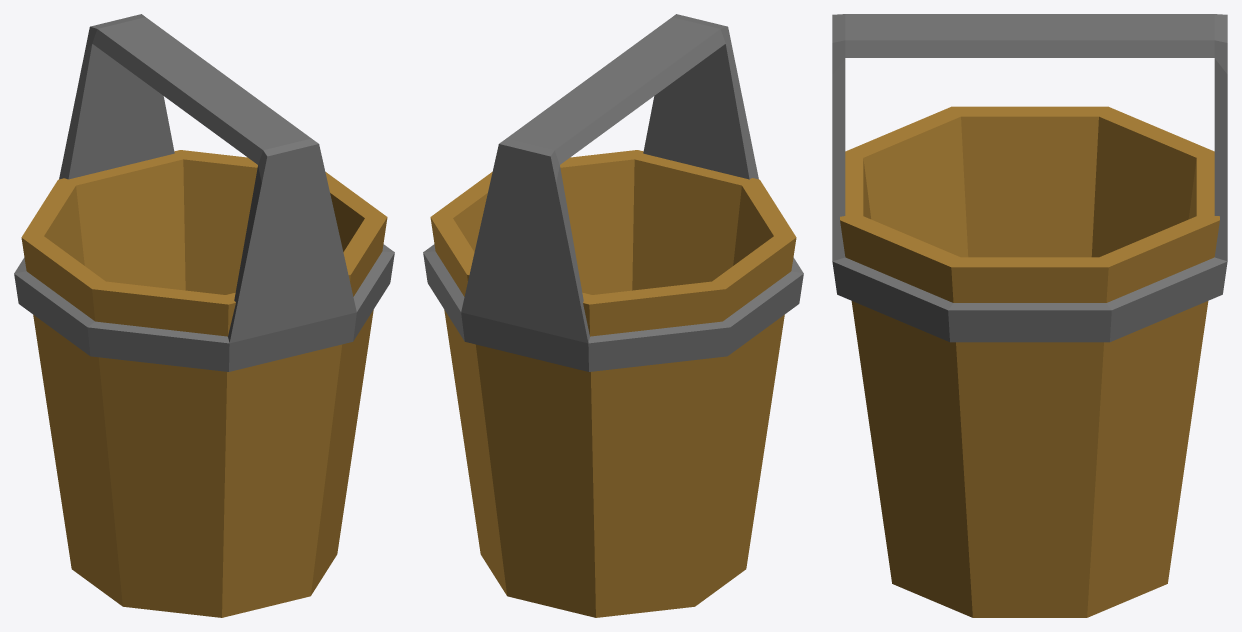
File: CraneBucket.glb
3 renders of one model, left to right at view 1: azimuth 30°, elevation 25°; view 2: azimuth 150°, elevation 25°; view 3: azimuth 270°, elevation 25°, orthographic. The views are drawn at different scales.
Visible parts, largest first — view 1: Bucket; view 2: Bucket; view 3: Bucket.
Part boxes in pixels (x1,y1,x2,y2): Bucket: (14,14,394,617); Bucket: (423,14,803,617); Bucket: (832,14,1227,617).
Size of the model in its own units: 0.7285 by 1.08 by 0.7285.
